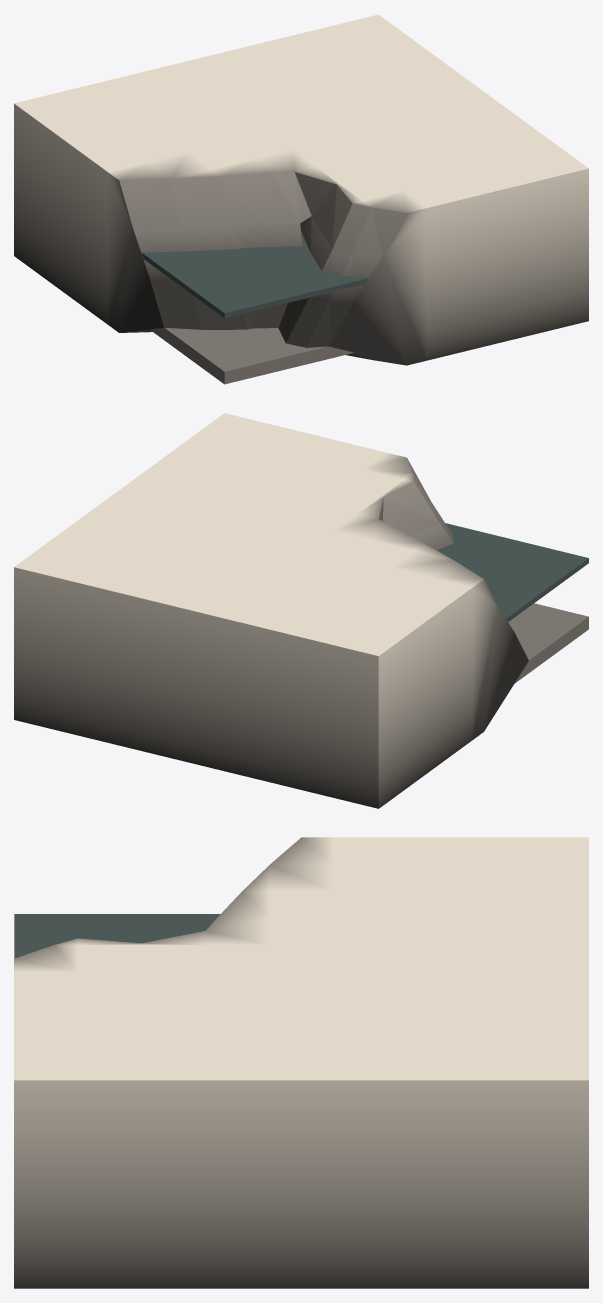
The model's file is SM_VKI_Ground_Stream_XOOO_Q01.fbx.
3 views of the same model, one above another, from view 1: azimuth 30°, elevation 25°; view 2: azimuth 150°, elevation 25°; view 3: azimuth 270°, elevation 25° (orthographic). The views are drawn at different scales.
Parts seen in each view (by area): view 1: SM_VKI_Ground_Stream_XOOO_Q01.001; view 2: SM_VKI_Ground_Stream_XOOO_Q01.001; view 3: SM_VKI_Ground_Stream_XOOO_Q01.001.
Boxes of the visible parts, box(x1,y1,x2,y2) form: SM_VKI_Ground_Stream_XOOO_Q01.001: box(14, 14, 588, 384); SM_VKI_Ground_Stream_XOOO_Q01.001: box(14, 413, 588, 808); SM_VKI_Ground_Stream_XOOO_Q01.001: box(14, 837, 588, 1288).
Bounding box in the file's own units: 1.5 × 0.6 × 1.5.
